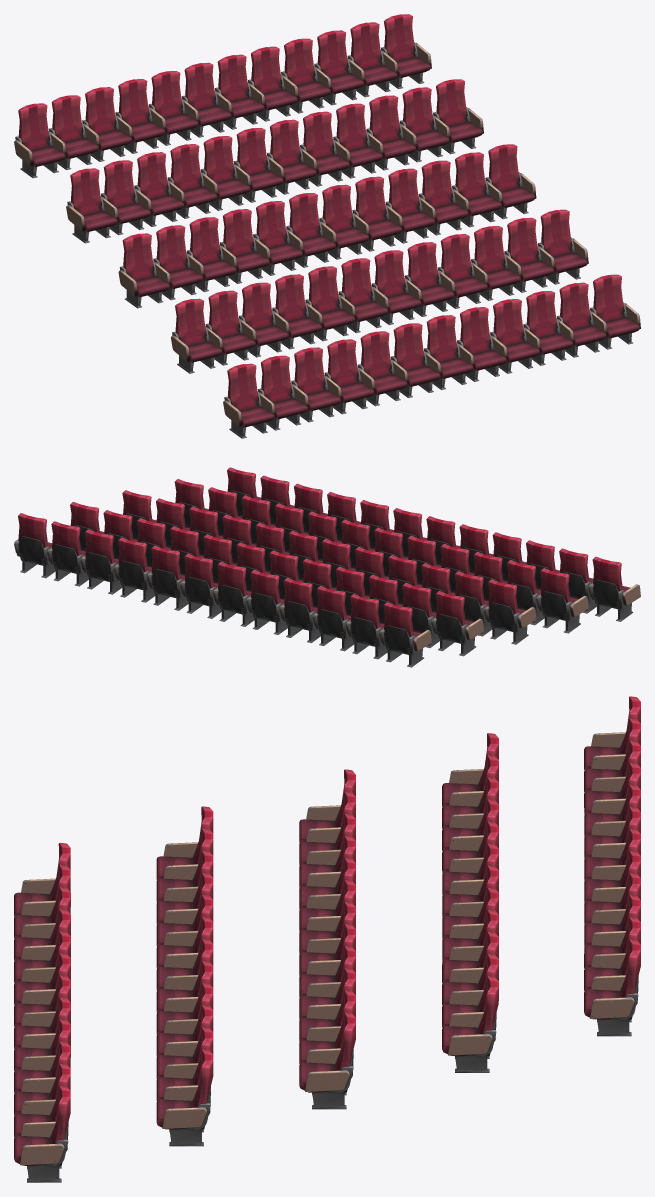
Rendered from CinemaSeats02.FBX.
3 views of the same model, one above another, from view 1: azimuth 30°, elevation 25°; view 2: azimuth 150°, elevation 25°; view 3: azimuth 270°, elevation 25° (orthographic). The views are drawn at different scales.
Visible parts, largest first — view 1: CinemaSeats02; view 2: CinemaSeats02; view 3: CinemaSeats02.
Boxes of the visible parts, <box> form: CinemaSeats02: <box>14,14,640,438</box>; CinemaSeats02: <box>14,467,640,667</box>; CinemaSeats02: <box>14,696,640,1182</box>.
Size of the model in its own units: 1064 by 421 by 1055.
